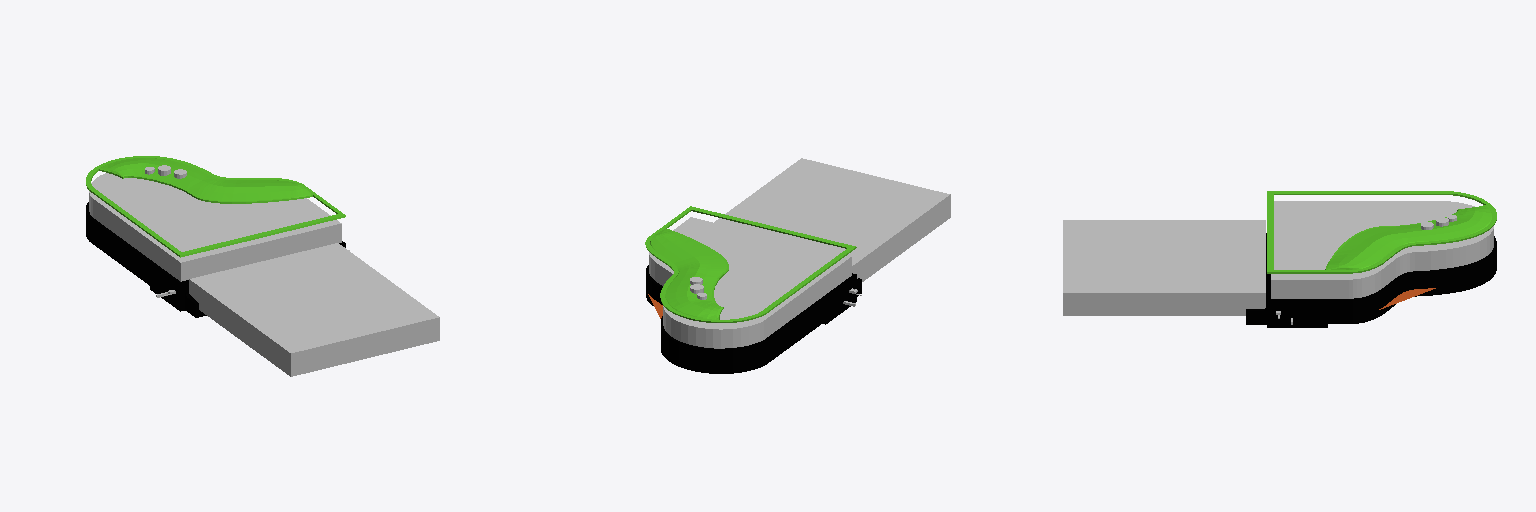
Rendered from grand_piano_import_testing.obj.
3 views of the same model, side by side, from view 1: azimuth 30°, elevation 25°; view 2: azimuth 150°, elevation 25°; view 3: azimuth 270°, elevation 25° (orthographic).
Visible parts, largest first — view 1: keyboard_bool01_Plane, interior_bool01_Cube.004, Cube.012_Cube.021, box_Cube.001; view 2: keyboard_bool01_Plane, interior_bool01_Cube.004, Cube.012_Cube.021, box_Cube.001; view 3: keyboard_bool01_Plane, interior_bool01_Cube.004, Cube.012_Cube.021, box_Cube.001.
Part boxes in pixels (bbox=[...]): keyboard_bool01_Plane: bbox=[189, 243, 439, 376]; interior_bool01_Cube.004: bbox=[89, 173, 341, 281]; Cube.012_Cube.021: bbox=[86, 156, 345, 257]; box_Cube.001: bbox=[86, 202, 345, 317]; keyboard_bool01_Plane: bbox=[714, 158, 950, 281]; interior_bool01_Cube.004: bbox=[649, 217, 851, 348]; Cube.012_Cube.021: bbox=[645, 206, 856, 322]; box_Cube.001: bbox=[646, 265, 861, 373]; keyboard_bool01_Plane: bbox=[1063, 220, 1265, 315]; interior_bool01_Cube.004: bbox=[1271, 201, 1493, 298]; Cube.012_Cube.021: bbox=[1267, 191, 1496, 273]; box_Cube.001: bbox=[1246, 233, 1496, 327].
Bounding box in the file's own units: 2.12 × 0.6704 × 4.28.